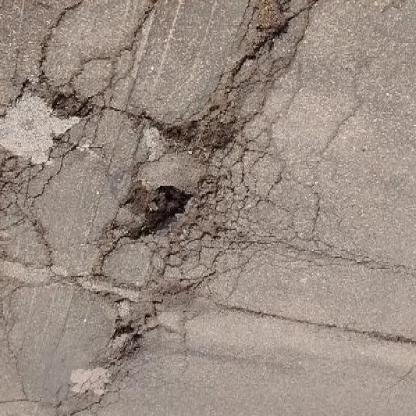pothole: (133, 180, 195, 244), (167, 119, 237, 158), (250, 3, 294, 53), (109, 316, 145, 364), (49, 86, 93, 122)
